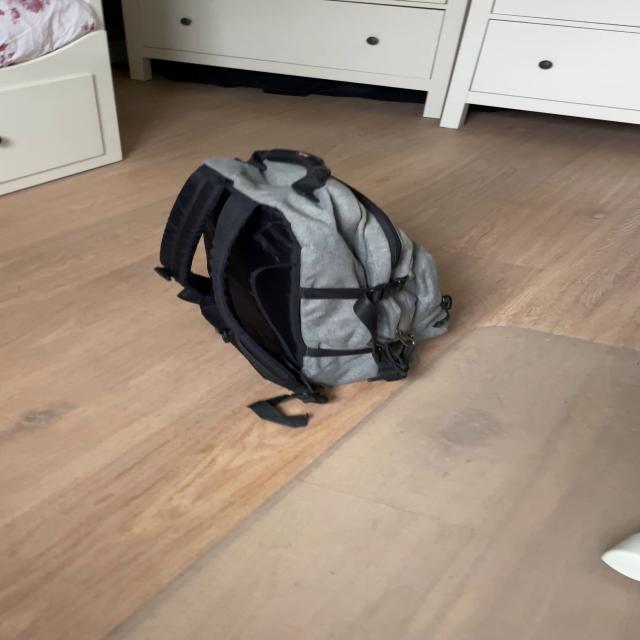backpack: (142, 136, 458, 399)
